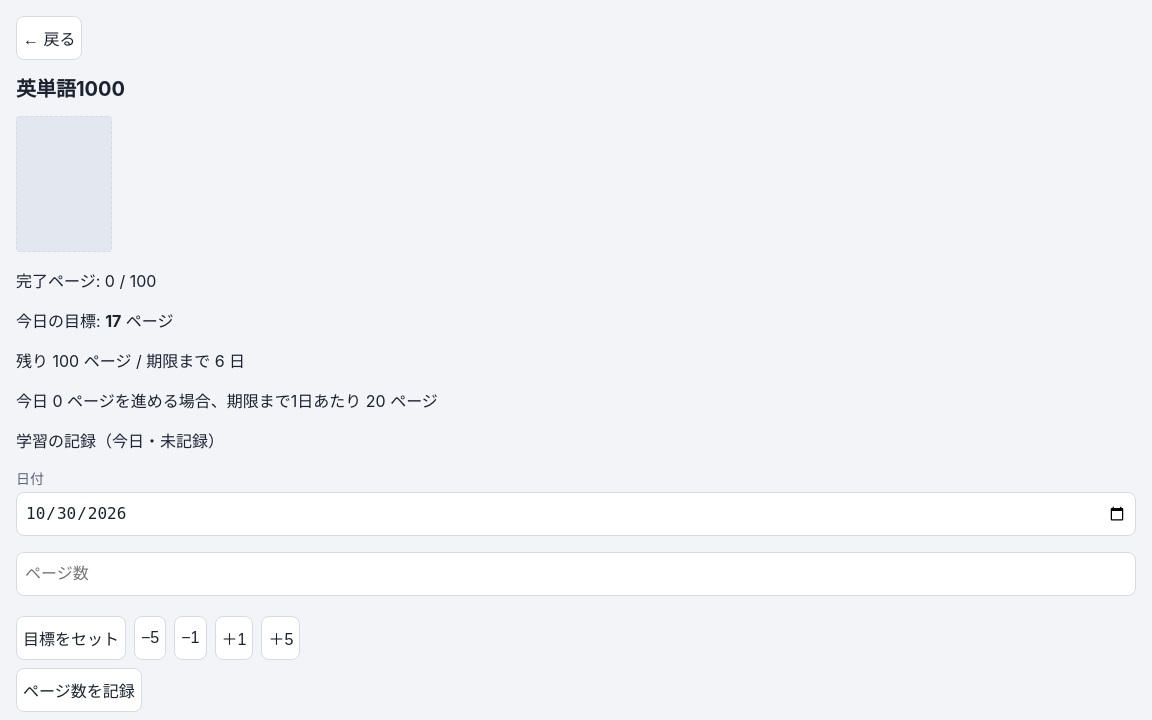
Scenario: BookDetailScreen › overwrites same-day record
This screenshot has width=1152, height=720.
Type "7" into the number field with test id "progress-input". click: (576, 574)
box: [16,552,1136,596]
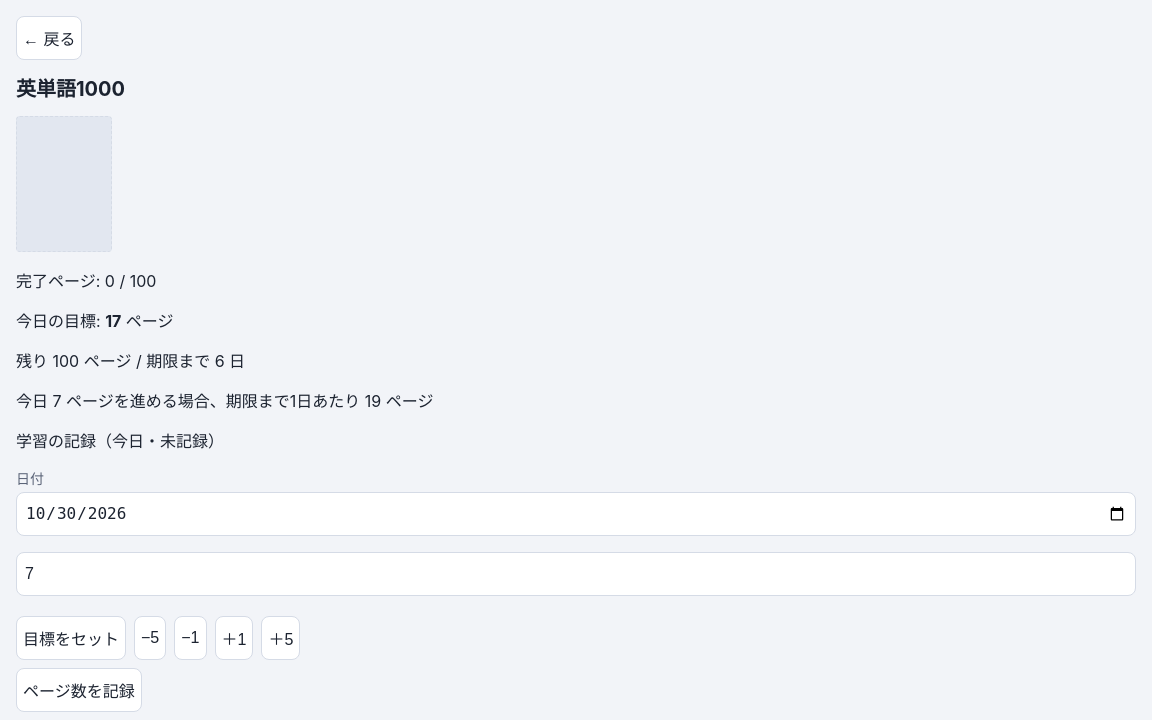
Click the button with test id "record-progress". click: (79, 690)
box: [16,668,142,712]
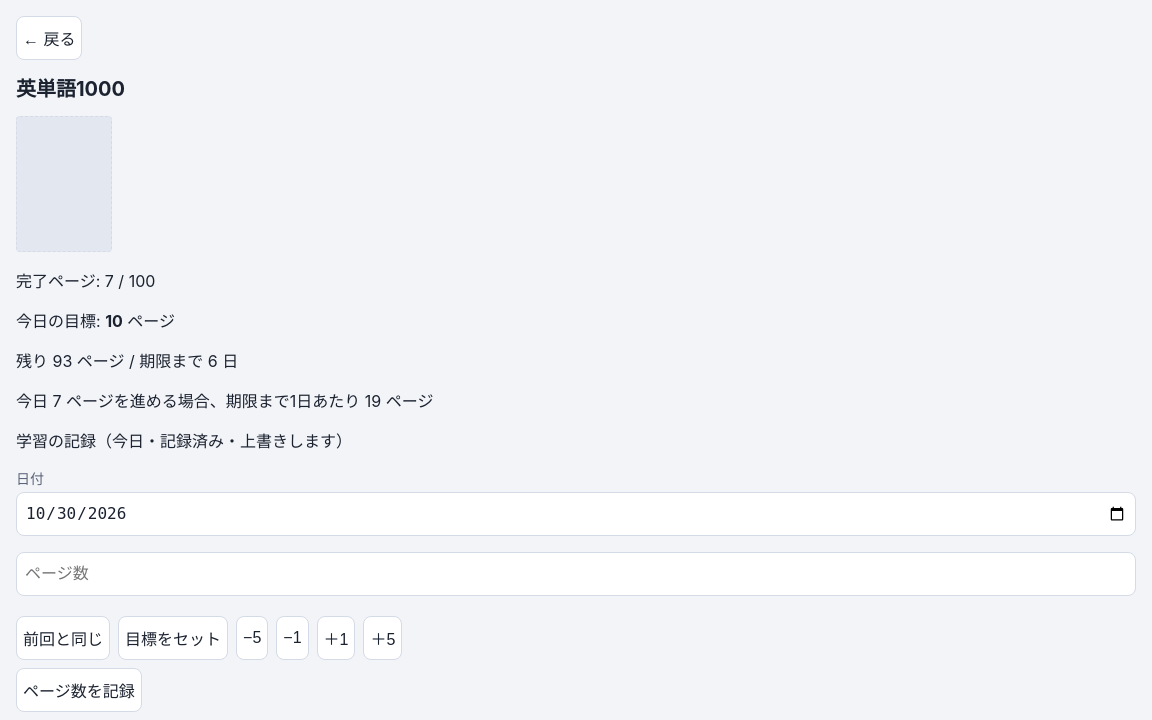
Result: the text with test id "done-count" reads "7" at [105,271,114,291]
